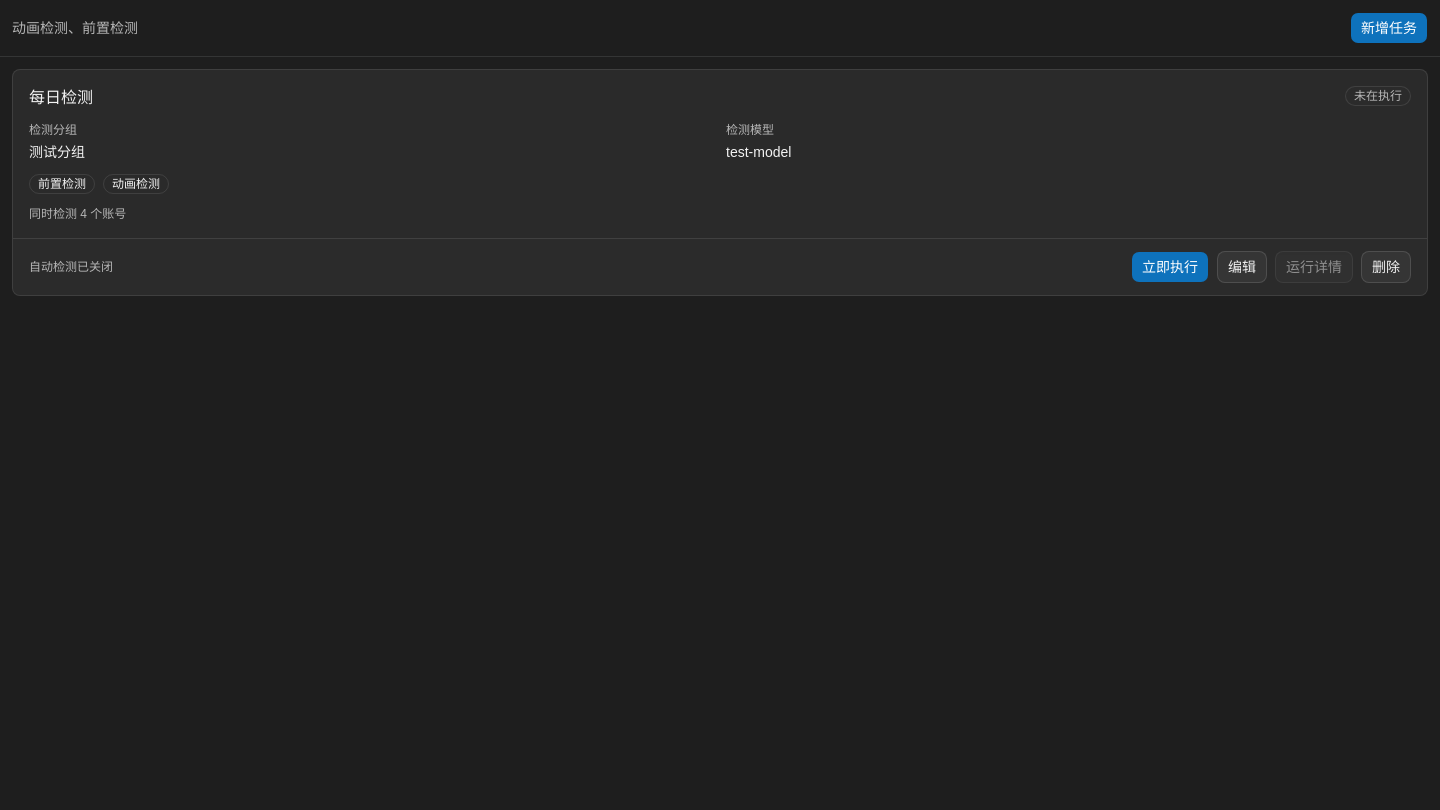
Test: 并发数超出上限时显示字段错误，键盘修正后保存并在任务列表展示
Click the button "编辑".
click(1242, 267)  # box [1217,251,1267,283]
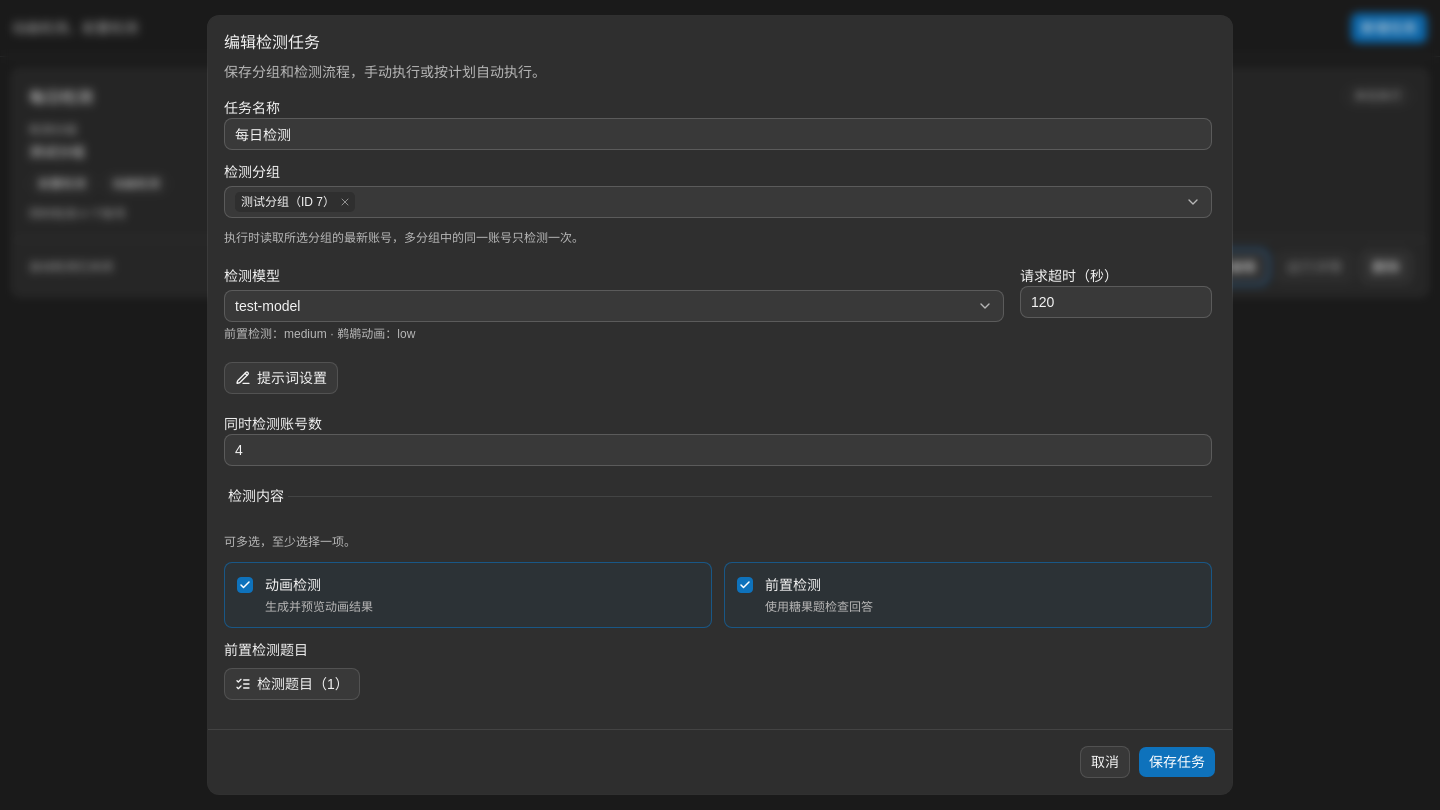
Replace the text in the number field labelled "同时检测账号数" with "17" at {"x": 718, "y": 450}, box [224,434,1212,466]
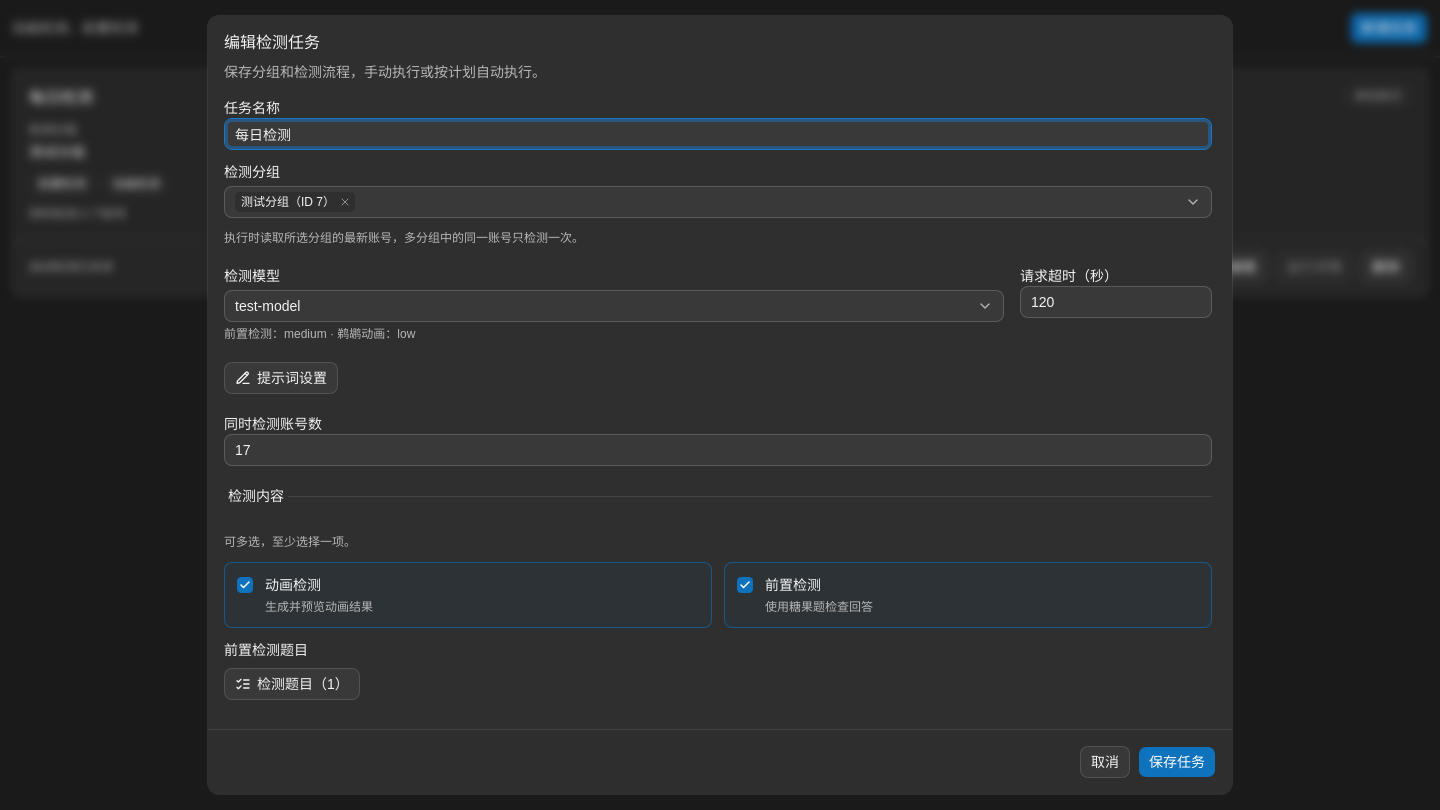
Click the button "保存任务".
click(1177, 762)  # box [1138,746,1216,778]
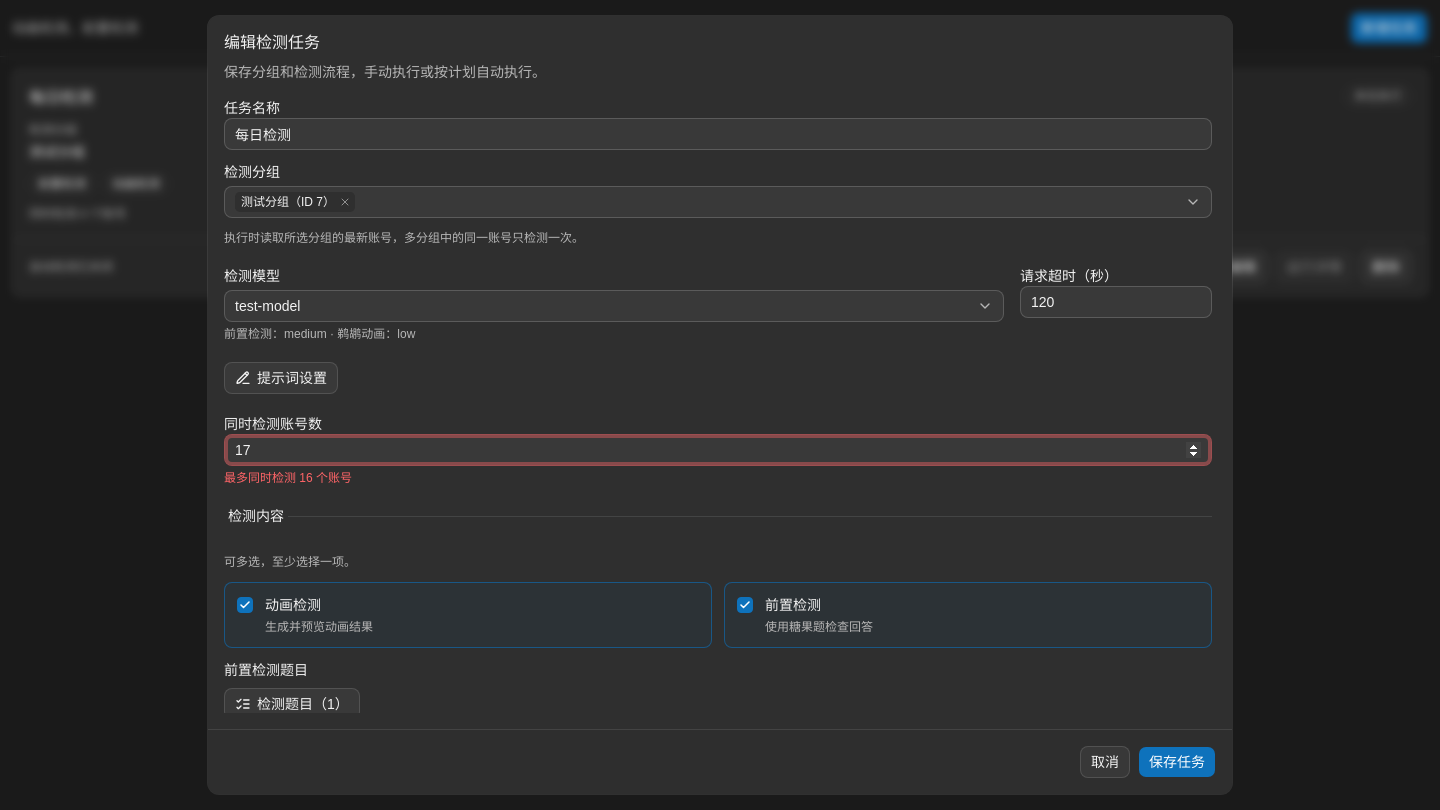
Expected: the text "最多同时检测 16 个账号" is shown, [224,471,352,485]
Replace the text in the number field labelled "同时检测账号数" with "2" at {"x": 718, "y": 450}, box [224,434,1212,466]
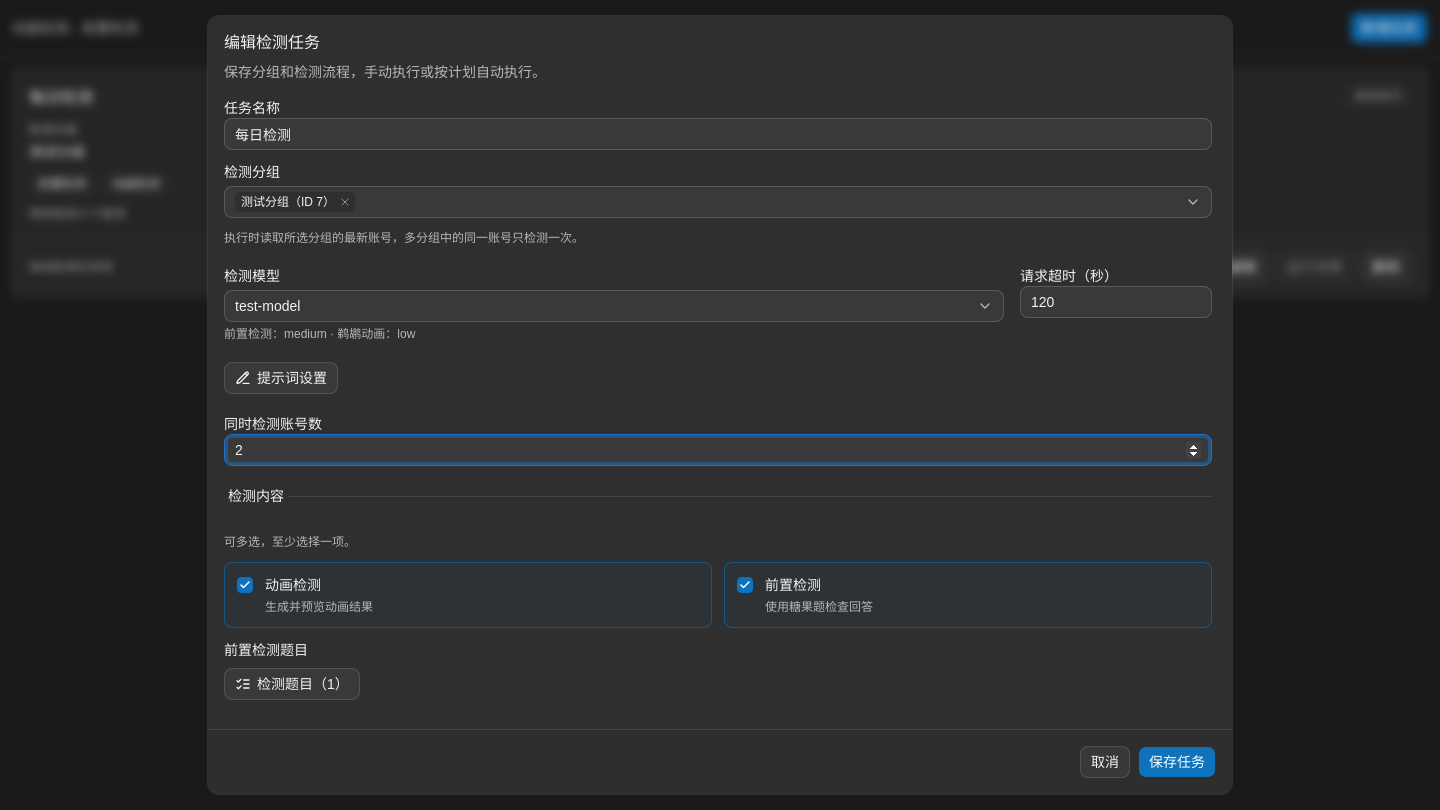
Click the button "保存任务".
click(1177, 762)  # box [1138,746,1216,778]
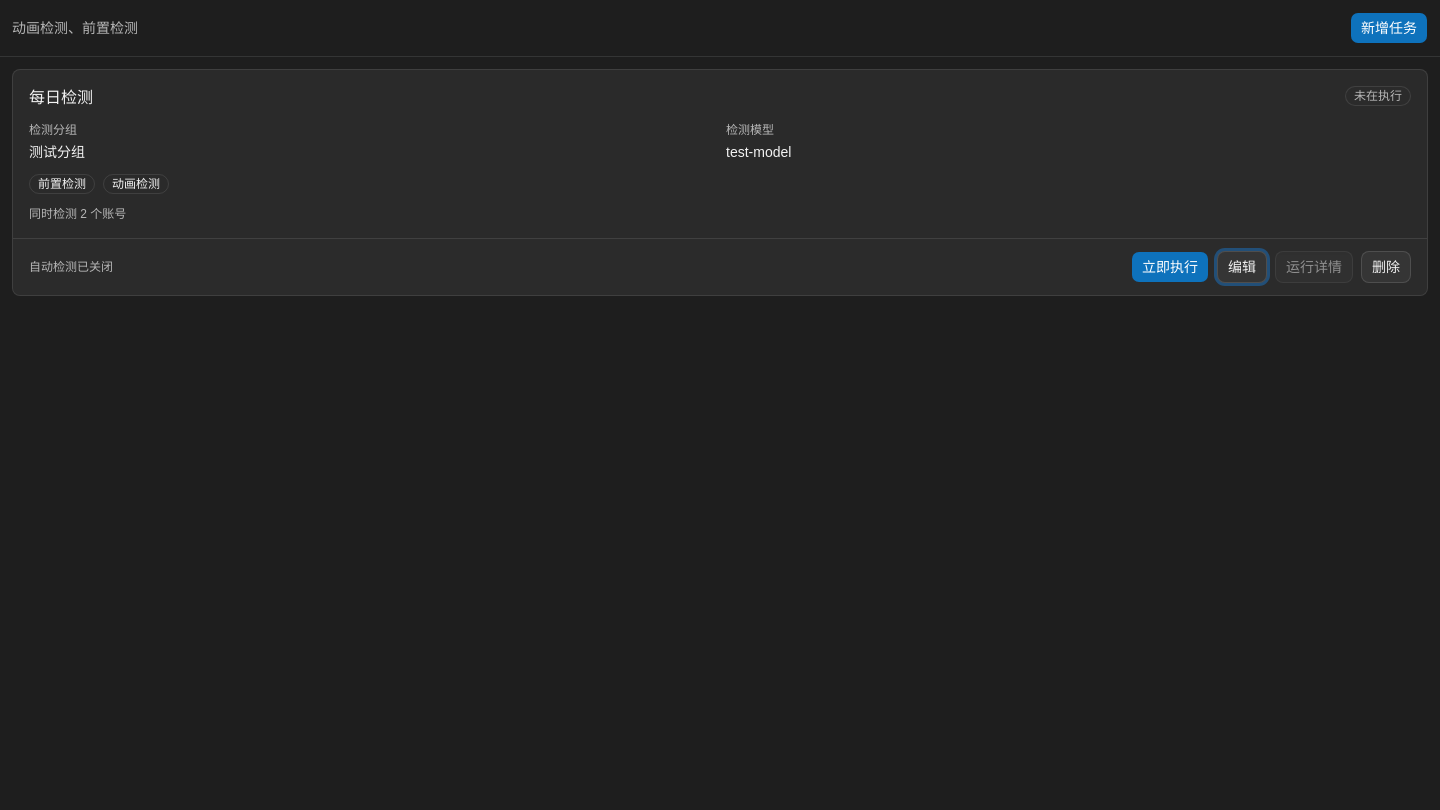
Expected: the element named "检测任务 每日检测" shows "同时检测 2 个账号", [12,69,1428,296]
